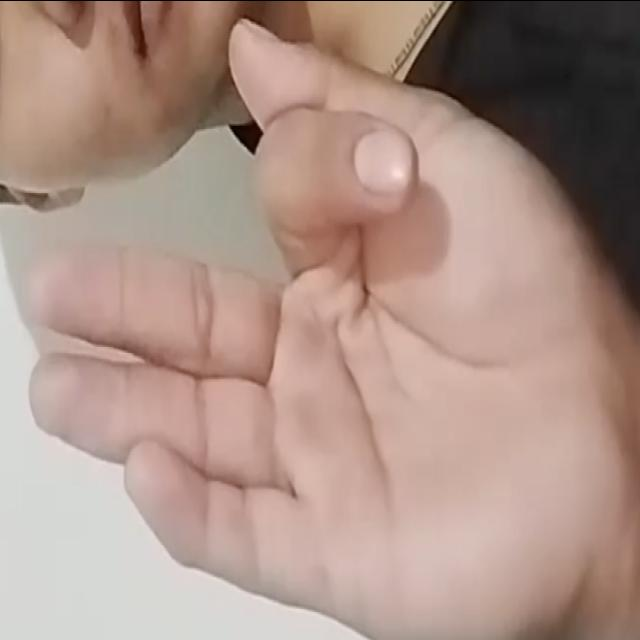F: (15, 13, 640, 638)
